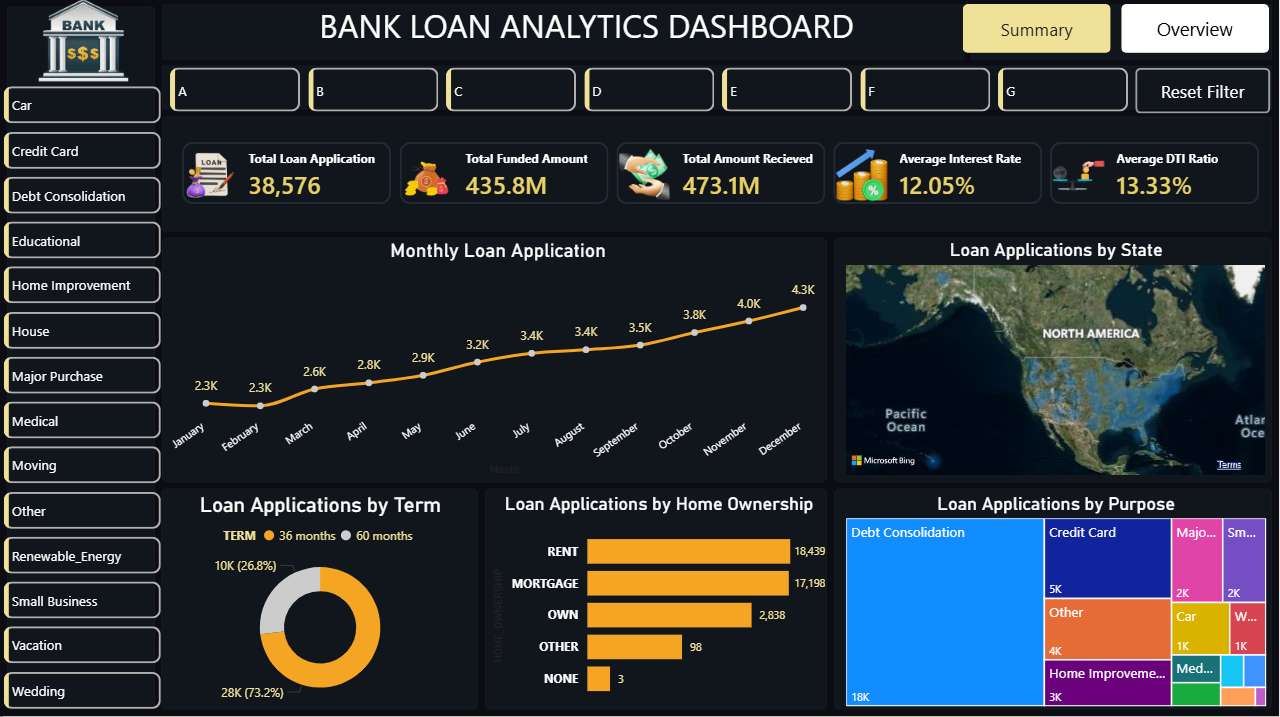

What the dashboard file says about the page in this screenshot:
{"tool":"powerbi","page":{"name":"Overview","canvas":[1280,720],"ordinal":1},"visuals":[{"type":"cardVisual","fields":{"Data":["financial_loan.Total Loan Application","financial_loan.Total Funded Amount","financial_loan.Total Amount Recieved","financial_loan.Average Interest Rate","financial_loan.Average DTI Rate"]},"box":[166.5,126.7,1113.5,96.5],"z":0},{"type":"image","box":[1.3,0,166.2,82.5],"z":11000},{"type":"advancedSlicerVisual","fields":{"Values":["financial_loan.PURPOSE"]},"box":[0,82.5,167.5,638.1],"z":12000},{"type":"advancedSlicerVisual","fields":{"Values":["financial_loan.GRADE"]},"box":[166.2,63.4,970.5,54.5],"z":13000},{"type":"actionButton","title":"Reset Filter","box":[1136.5,68.8,135.1,45.8],"z":14000},{"type":"textbox","title":"Bank Loan Analytics Dashboard","box":[167.7,0,796.3,63.9],"z":15000},{"type":"pageNavigator","box":[963.9,4.8,307.6,49.5],"z":15001},{"type":"lineChart","title":"Monthly Loan Application","fields":{"Category":["financial_loan.ISSUE_DATE.Variation.Date Hierarchy.Month"],"Y":["financial_loan.Total Loan Application"]},"box":[167.7,240.1,663.5,241.3],"z":15002},{"type":"donutChart","title":"Loan Applications by Term","fields":{"Category":["financial_loan.TERM"],"Y":["financial_loan.Total Loan Application"]},"box":[167.7,493.4,307.6,218.4],"z":15003},{"type":"clusteredBarChart","title":"Loan Applications by Home Ownership","fields":{"Category":["financial_loan.HOME_OWNERSHIP"],"Y":["financial_loan.Total Loan Application"]},"box":[488.6,493.4,342.6,217.2],"z":15004},{"type":"treemap","title":"Loan Applications by Purpose","fields":{"Group":["financial_loan.PURPOSE"],"Values":["financial_loan.Total Loan Application"]},"box":[842.1,493.4,429.5,218.4],"z":15005},{"type":"map","title":"Loan Applications by State","fields":{"Category":["financial_loan.ADDRESS_STATE"]},"box":[842.1,240.1,429.5,241.3],"z":15006}]}

Visuals, with their boxes in screenshot pixels (x1, y1, x2, y2), scaled from the page's 1280x720 canvas onto the 1280x717 screenshot:
cardVisual - financial_loan.Total Loan Application x financial_loan.Total Funded Amount: l=166, t=126, r=1279, b=222
image: l=1, t=0, r=168, b=82
advancedSlicerVisual - financial_loan.PURPOSE: l=0, t=82, r=168, b=716
advancedSlicerVisual - financial_loan.GRADE: l=166, t=63, r=1137, b=117
"Reset Filter" actionButton: l=1136, t=69, r=1272, b=114
"Bank Loan Analytics Dashboard" textbox: l=168, t=0, r=964, b=64
pageNavigator: l=964, t=5, r=1272, b=54
"Monthly Loan Application" lineChart: l=168, t=239, r=831, b=479
"Loan Applications by Term" donutChart: l=168, t=491, r=475, b=709
"Loan Applications by Home Ownership" clusteredBarChart: l=489, t=491, r=831, b=708
"Loan Applications by Purpose" treemap: l=842, t=491, r=1272, b=709
"Loan Applications by State" map: l=842, t=239, r=1272, b=479
